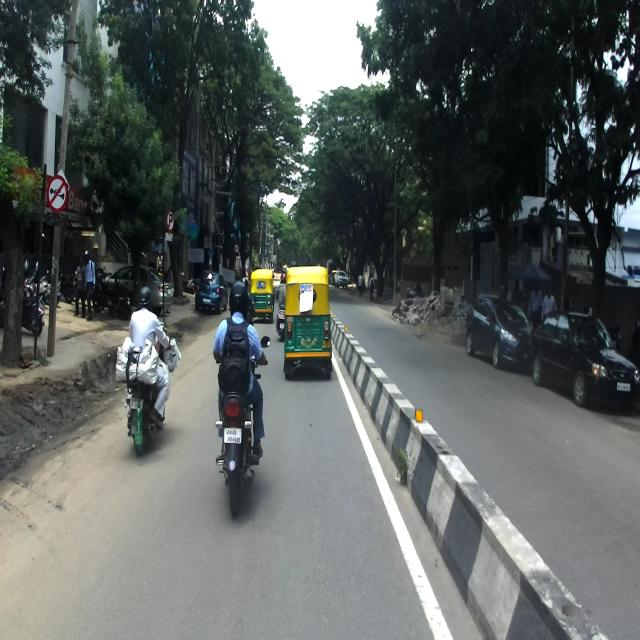auto ahead at: (277, 258, 337, 386)
motorcycle ahead at: (116, 326, 174, 448), (217, 382, 265, 503)
sign board ahead at: (38, 164, 70, 224)
